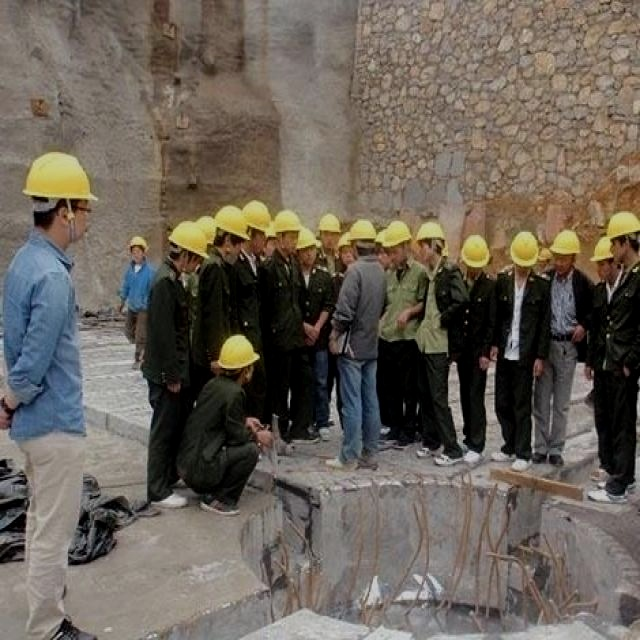Con_Casco: (27, 153, 99, 245)
Sin_Chaleco: (3, 235, 89, 441)
